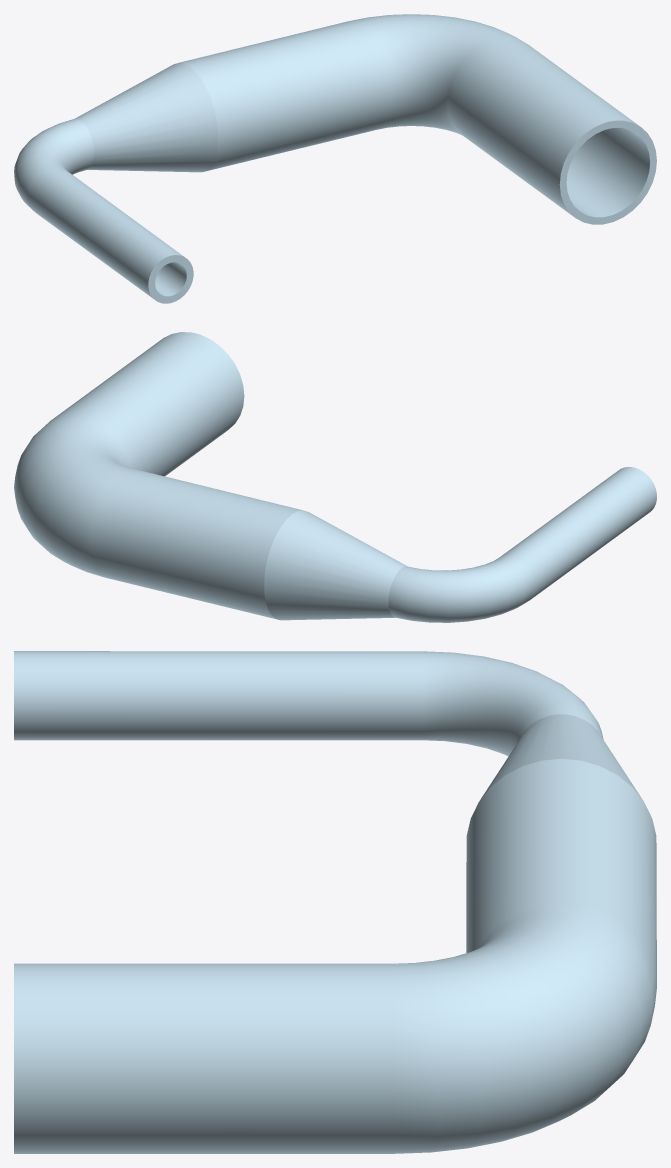
File: pipe.gltf
The picture shows the model from 3 angles, top to bottom: view 1: azimuth 30°, elevation 25°; view 2: azimuth 150°, elevation 25°; view 3: azimuth 270°, elevation 25°; orthographic projection. The views are drawn at different scales.
Parts seen in each view (by area): view 1: Part 1; view 2: Part 1; view 3: Part 1.
Part boxes in pixels (<box>): Part 1: <box>14,14,656,303</box>; Part 1: <box>14,332,656,622</box>; Part 1: <box>14,651,656,1153</box>.
Size of the model in its own units: 0.1118 by 0.0214 by 0.0719.
